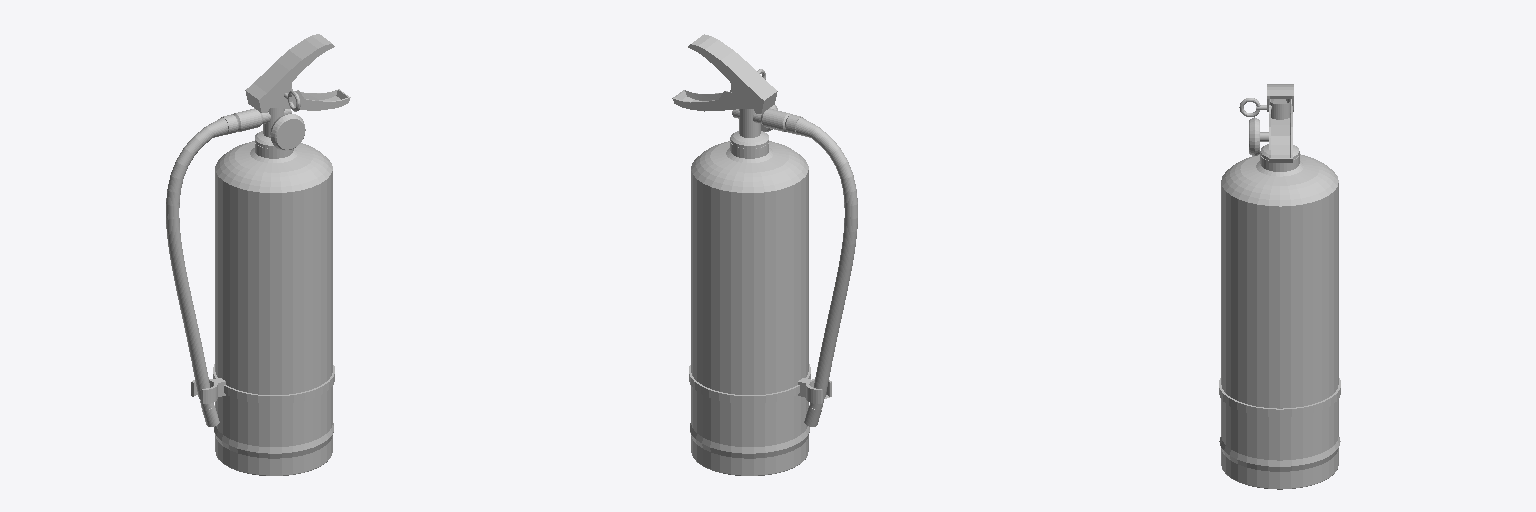
Rendered from fireext.obj.
3 renders of one model, left to right at view 1: azimuth 30°, elevation 25°; view 2: azimuth 150°, elevation 25°; view 3: azimuth 270°, elevation 25°, orthographic.
Visible parts, largest first — view 1: Cylinder; view 2: Cylinder; view 3: Cylinder.
Part boxes in pixels (bbox=[...]): Cylinder: bbox=[166, 34, 350, 475]; Cylinder: bbox=[672, 34, 857, 475]; Cylinder: bbox=[1219, 84, 1340, 489].
Bounding box in the file's own units: 1.06 × 2.27 × 0.6315.